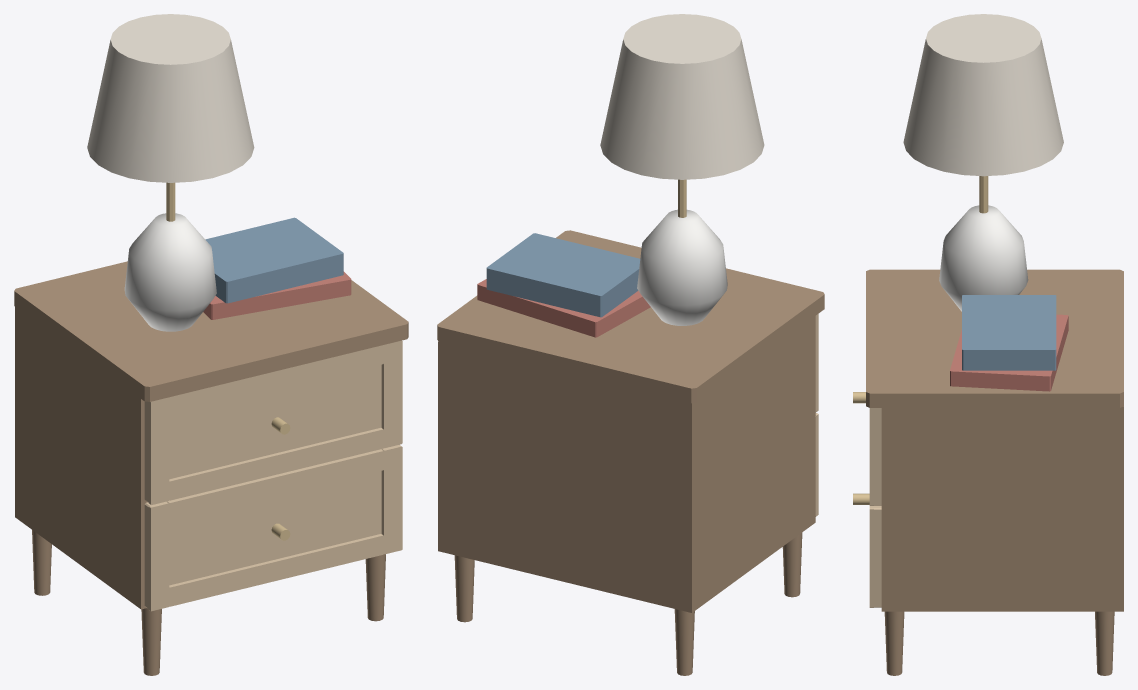
The picture shows the model from 3 angles, left to right: view 1: azimuth 30°, elevation 25°; view 2: azimuth 150°, elevation 25°; view 3: azimuth 270°, elevation 25°; orthographic projection. The views are drawn at different scales.
Visible parts, largest first — view 1: Tab đầu giường Rộng=450; Sâu=400; view 2: Tab đầu giường Rộng=450; Sâu=400; view 3: Tab đầu giường Rộng=450; Sâu=400.
Part boxes in pixels (bbox=[...]): Tab đầu giường Rộng=450; Sâu=400: bbox=[14, 14, 408, 675]; Tab đầu giường Rộng=450; Sâu=400: bbox=[437, 14, 824, 675]; Tab đầu giường Rộng=450; Sâu=400: bbox=[853, 14, 1123, 675].
Bounding box in the file's own units: 0.46 × 0.97 × 0.425.
